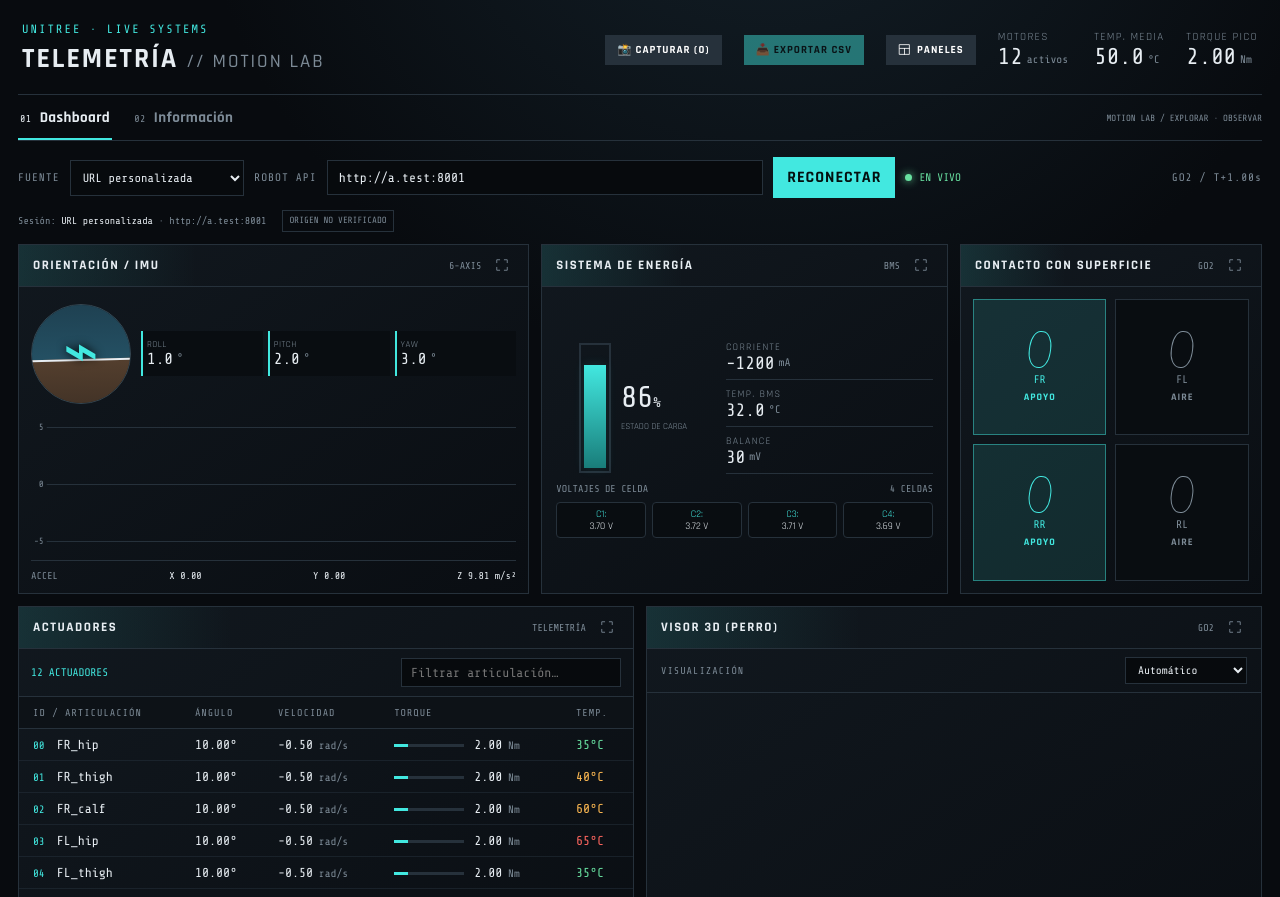
shows which URL is active while an unsent draft is edited
The image size is (1280, 897).
Replace the text in the field labelled "ROBOT API" with "http://other.test:9000" at {"x": 545, "y": 178}, box [327,160,763,195]
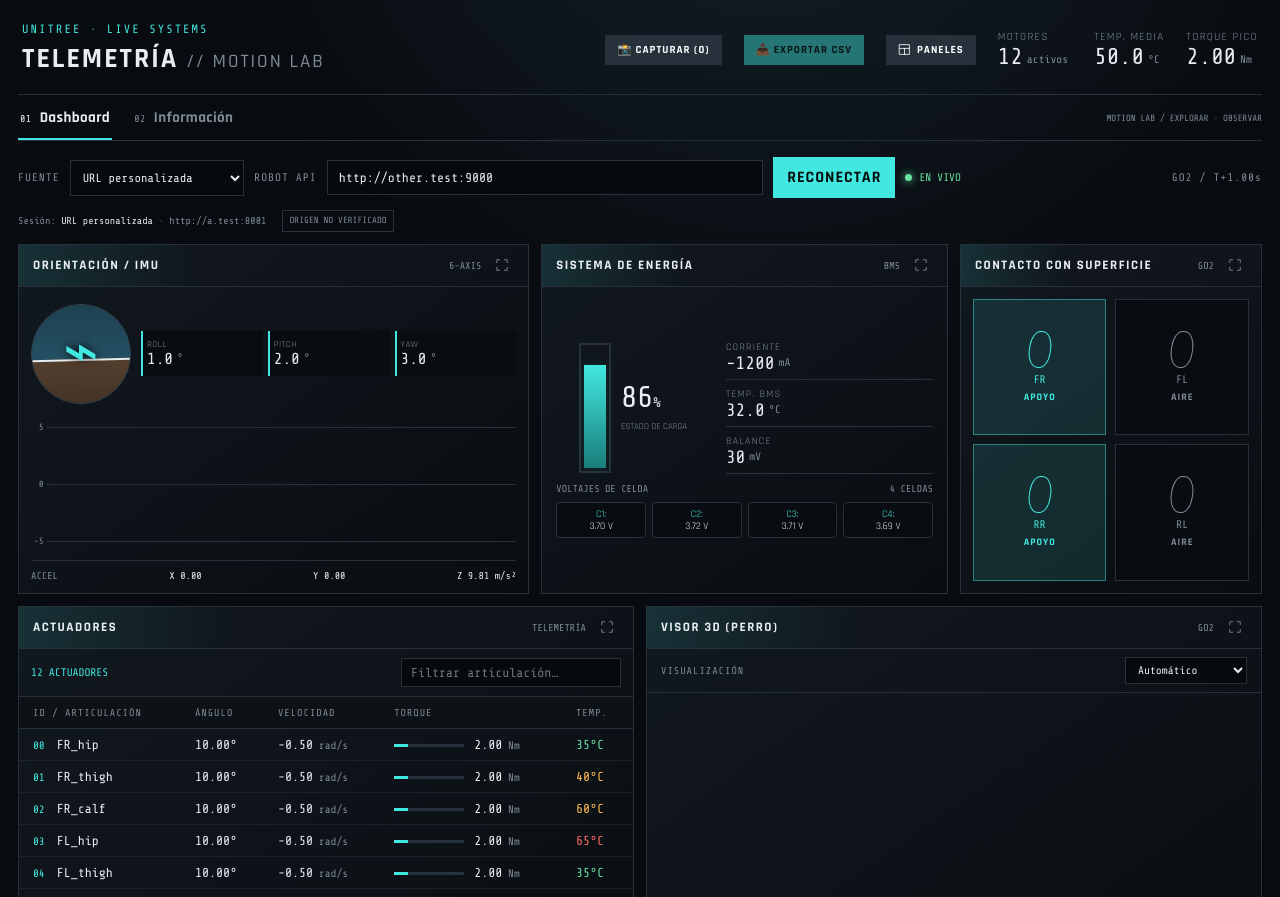
Expected: the text "http://a.test:8001" is shown, [169,215,266,226]
Click the button "Reconectar".
click(834, 178)  # box [773,157,896,198]
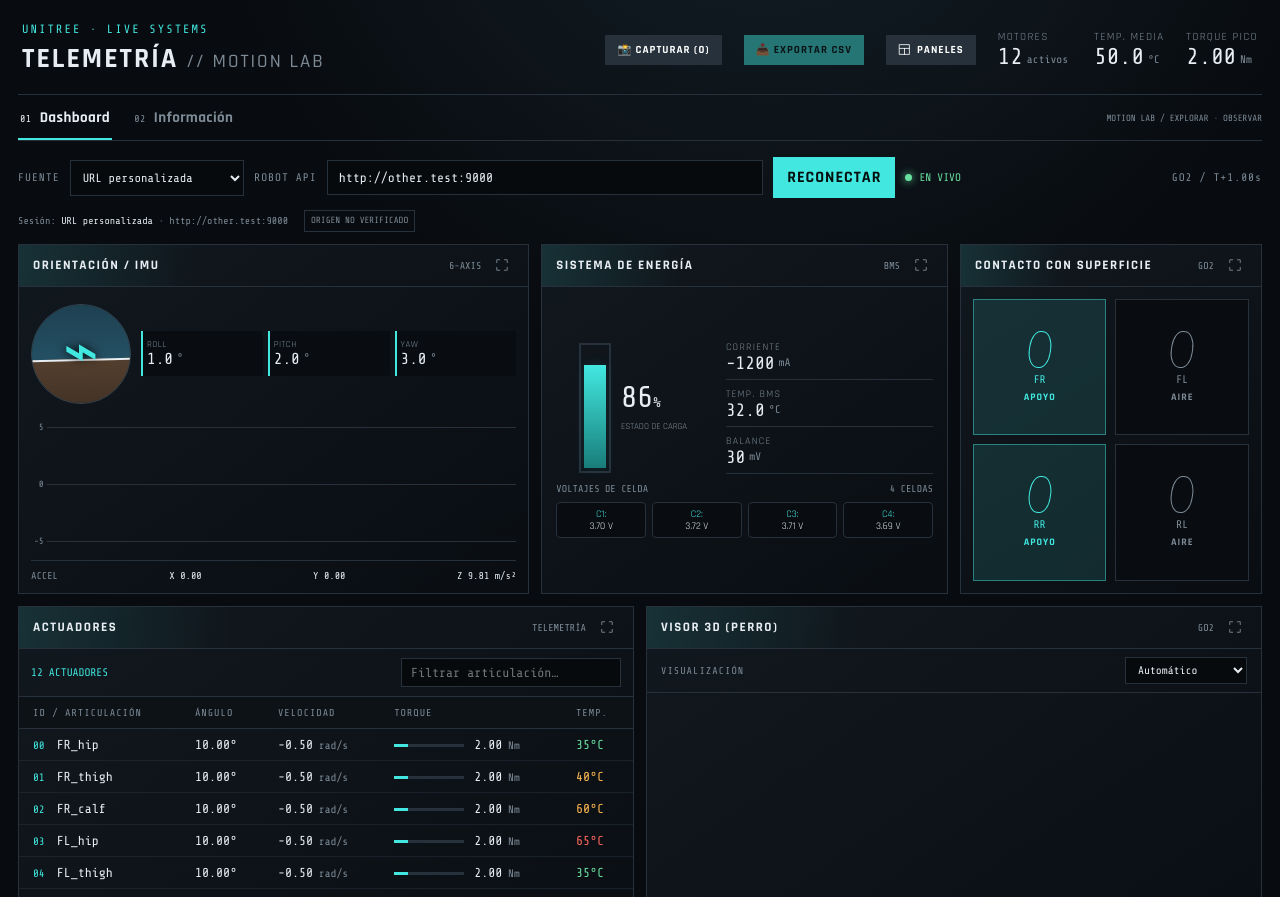
Result: the text "http://other.test:9000" is shown at [169,215,288,226]
